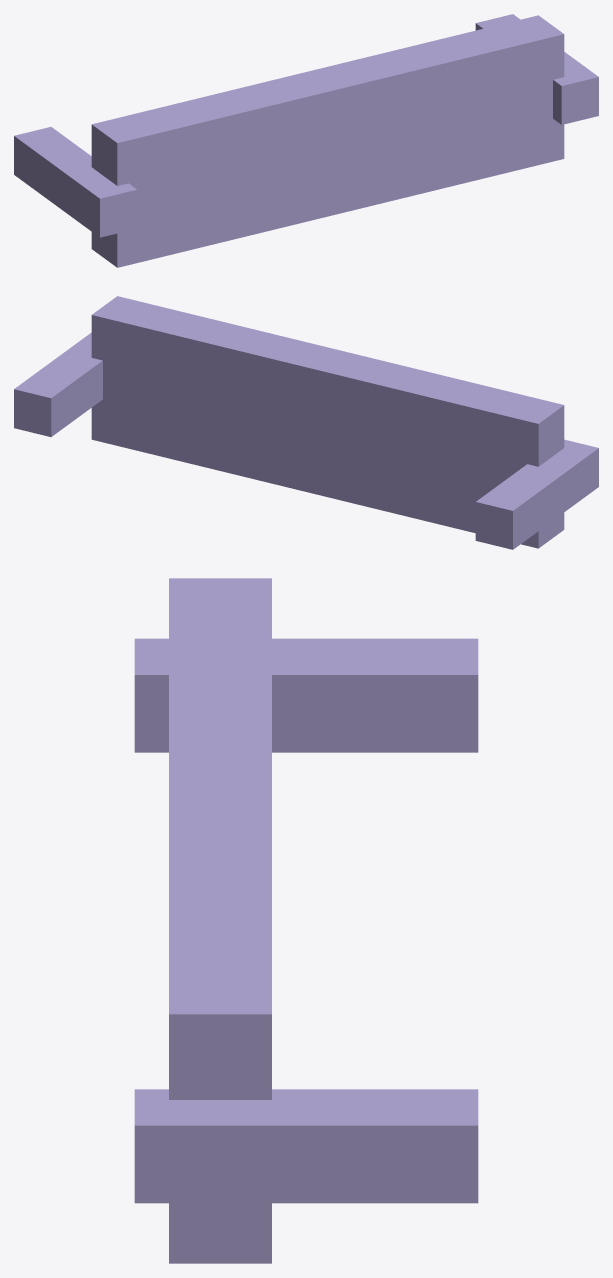
File: sleep_mask.glb
3 renders of one model, top to bottom at view 1: azimuth 30°, elevation 25°; view 2: azimuth 150°, elevation 25°; view 3: azimuth 270°, elevation 25°, orthographic. The views are drawn at different scales.
Parts seen in each view (by area): view 1: Sleep Mask; view 2: Sleep Mask; view 3: Sleep Mask.
Part boxes in pixels (<box>): Sleep Mask: <box>14,14,598,267</box>; Sleep Mask: <box>14,296,598,549</box>; Sleep Mask: <box>134,578,478,1263</box>.
Bounding box in the file's own units: 0.67 × 0.16 × 0.2.
